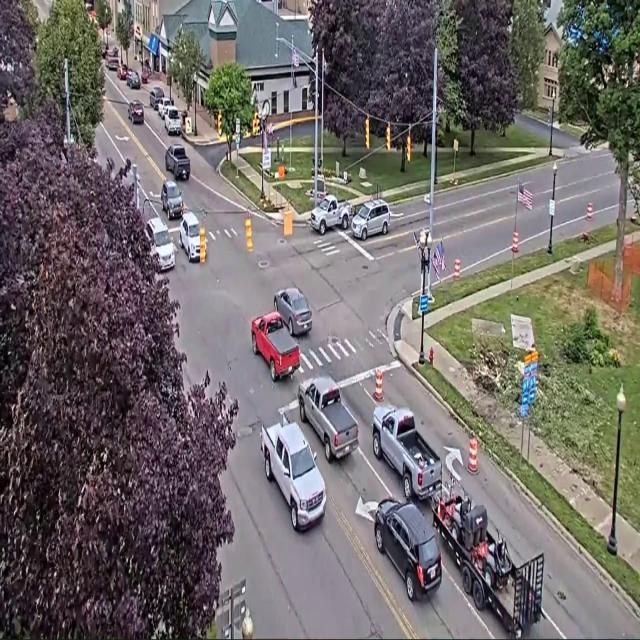car: (374, 499, 441, 600), (274, 288, 312, 335), (146, 217, 175, 271), (351, 200, 390, 239), (180, 212, 200, 261), (161, 180, 183, 219), (164, 106, 182, 135), (157, 96, 173, 119), (149, 87, 164, 110), (128, 101, 143, 123), (126, 69, 142, 89), (107, 52, 119, 71), (117, 64, 128, 79), (141, 66, 150, 83), (102, 43, 109, 59)
traffic signal: (245, 215, 253, 252), (200, 226, 207, 262), (252, 112, 259, 135), (365, 117, 369, 149), (407, 134, 411, 162), (386, 125, 390, 151), (217, 112, 221, 136)
truck: (432, 479, 543, 638), (261, 417, 326, 530), (373, 406, 441, 500), (298, 376, 358, 463), (251, 312, 299, 382), (310, 194, 352, 235), (165, 145, 190, 180)
